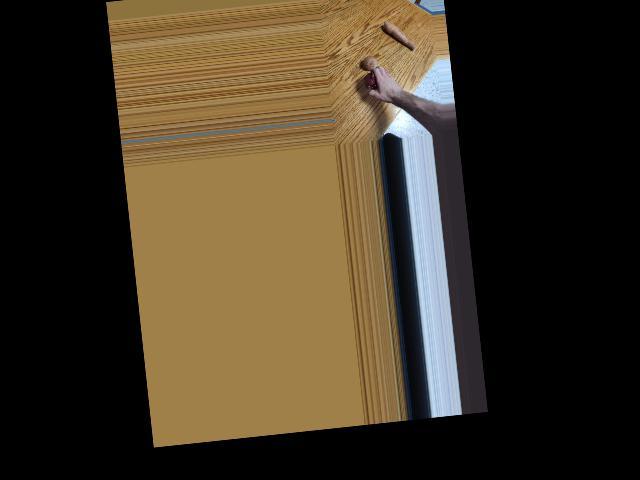onion: (360, 56, 378, 73)
